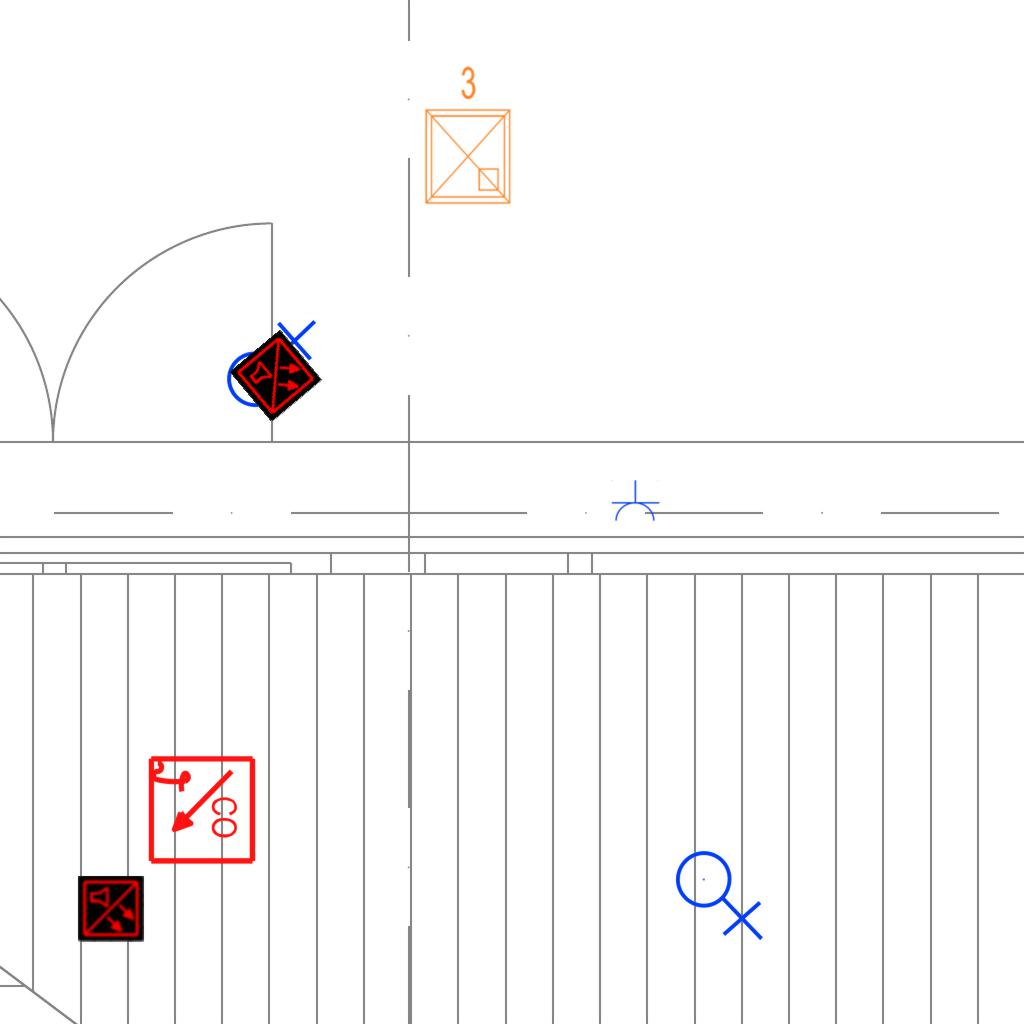Einbaudownlights_LED_Konferenzraeume: (414, 61, 518, 211)
Elektroanschluss_allgemein_230V_Geraeteanschlussdose_230V: (218, 315, 317, 409), (674, 842, 768, 941)
OKW_Multisensormelder_(Kombination_optischer_Rauch-Kahlenmonoxid_Waerme-Melder): (229, 329, 323, 423), (78, 876, 144, 942)
ROA_Rauchmelder_optisch_mit_Signalgeber_(Sockelsirene): (144, 754, 257, 867)
Schukosteckdose_einfach: (609, 479, 661, 524)
